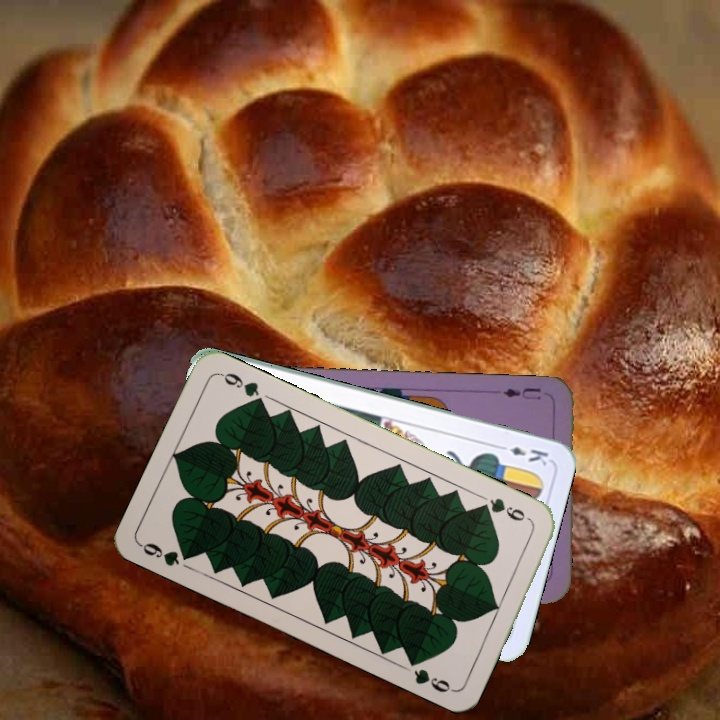EK: (492, 440, 551, 468)
EU: (499, 383, 543, 403)
G9: (136, 538, 197, 569), (475, 494, 534, 525)
